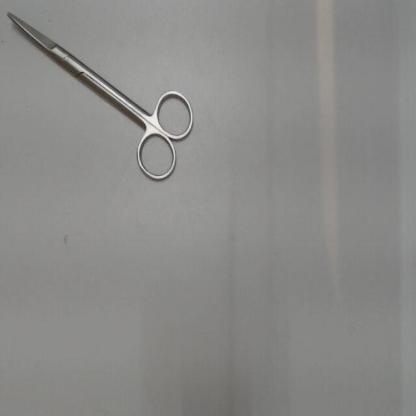Curved Mayo Scissors: (1, 4, 202, 190)
